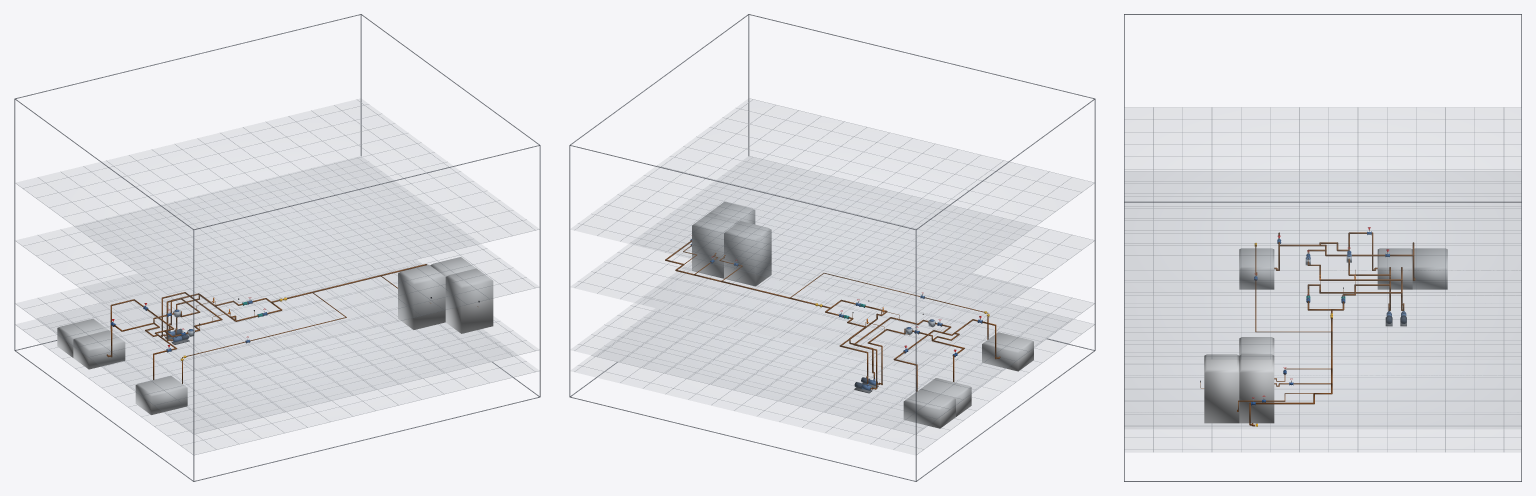
The picture shows the model from 3 angles, left to right: view 1: azimuth 30°, elevation 25°; view 2: azimuth 150°, elevation 25°; view 3: azimuth 270°, elevation 25°; orthographic projection. The views are drawn at different scales.
Parts seen in each view (by area): view 1: deck_2nd_deck__plate, deck_floor__plate, deck_3rd_deck__plate, deck_tank_top__plate, engine_room_outline__outline, tank_o34__tank, tank_o31__tank, tank_o11__tank, tank_o1__tank, deck_2nd_deck__grid, deck_3rd_deck__grid, tank_o16__tank (+1 smaller); view 2: deck_2nd_deck__plate, deck_floor__plate, deck_3rd_deck__plate, deck_tank_top__plate, engine_room_outline__outline, tank_o31__tank, tank_o32__tank, tank_o16__tank, tank_o11__tank, deck_2nd_deck__grid, deck_3rd_deck__grid, tank_o1__tank (+2 smaller); view 3: deck_2nd_deck__plate, deck_3rd_deck__plate, deck_floor__plate, deck_tank_top__plate, engine_room_outline__outline, tank_o34__tank, tank_o32__tank, tank_o11__tank, tank_o16__tank, tank_o1__tank, deck_2nd_deck__grid, tank_o31__tank.
Boxes of the visible parts, x1,y1,x2,y2 form: deck_2nd_deck__plate: (17, 99, 537, 312); deck_floor__plate: (16, 288, 538, 432); deck_3rd_deck__plate: (17, 227, 538, 369); deck_tank_top__plate: (16, 320, 538, 453); engine_room_outline__outline: (14, 14, 540, 481); tank_o34__tank: (445, 268, 493, 333); tank_o31__tank: (398, 264, 445, 329); tank_o11__tank: (135, 376, 187, 414); tank_o1__tank: (73, 330, 125, 369); deck_2nd_deck__grid: (17, 101, 535, 311); deck_3rd_deck__grid: (16, 160, 533, 370); tank_o16__tank: (57, 318, 108, 357); deck_2nd_deck__plate: (571, 99, 1092, 312); deck_floor__plate: (571, 288, 1092, 433); deck_3rd_deck__plate: (571, 227, 1092, 370); deck_tank_top__plate: (571, 320, 1092, 454); engine_room_outline__outline: (569, 14, 1095, 481); tank_o31__tank: (724, 221, 771, 286); tank_o32__tank: (692, 213, 738, 278); tank_o16__tank: (903, 389, 955, 428); tank_o11__tank: (982, 332, 1033, 371); deck_2nd_deck__grid: (575, 99, 1092, 311); deck_3rd_deck__grid: (576, 160, 1094, 370); tank_o1__tank: (920, 378, 971, 416); deck_2nd_deck__plate: (1125, 108, 1520, 294); deck_3rd_deck__plate: (1125, 296, 1520, 358); deck_floor__plate: (1125, 360, 1520, 428); deck_tank_top__plate: (1125, 430, 1520, 451); engine_room_outline__outline: (1124, 14, 1521, 481); tank_o34__tank: (1204, 354, 1239, 423); tank_o32__tank: (1239, 354, 1274, 423); tank_o11__tank: (1239, 248, 1274, 289); tank_o16__tank: (1412, 248, 1447, 289); tank_o1__tank: (1377, 248, 1412, 289); deck_2nd_deck__grid: (1153, 107, 1504, 294); tank_o31__tank: (1239, 337, 1274, 355).
Size of the model in its own units: 38.06 by 26.46 by 34.06.
